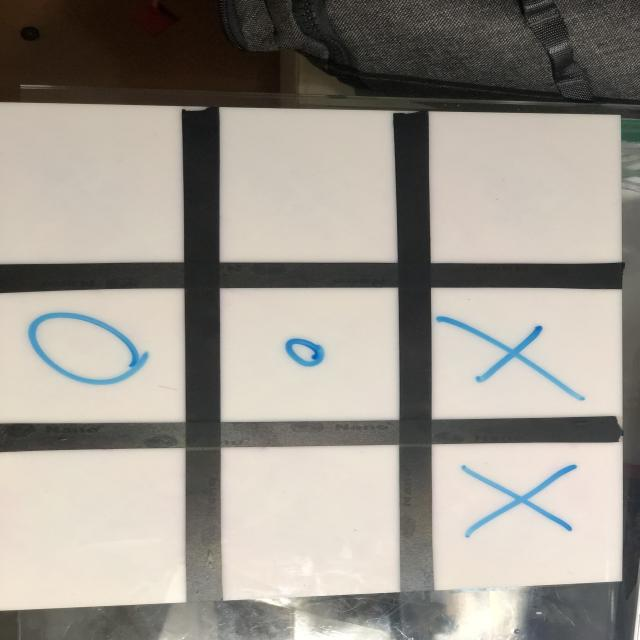null: (0, 450, 189, 611), (0, 103, 182, 264), (217, 106, 400, 266), (430, 111, 622, 263), (222, 445, 401, 603)
o: (23, 312, 147, 388), (280, 334, 332, 369)
table: (0, 100, 625, 615)
x: (449, 308, 578, 400), (456, 457, 576, 536)
